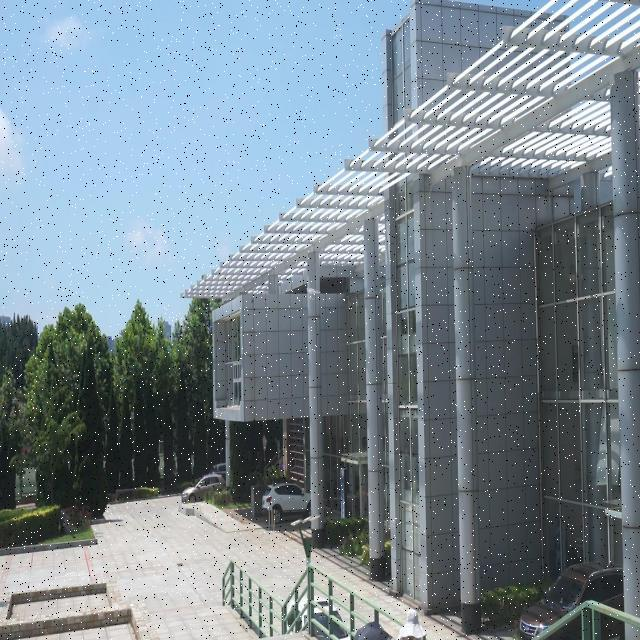UAV: (306, 287, 321, 300)
